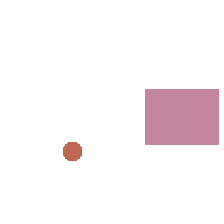circle: (63, 142, 81, 160)
rectangle: (145, 89, 218, 144)
